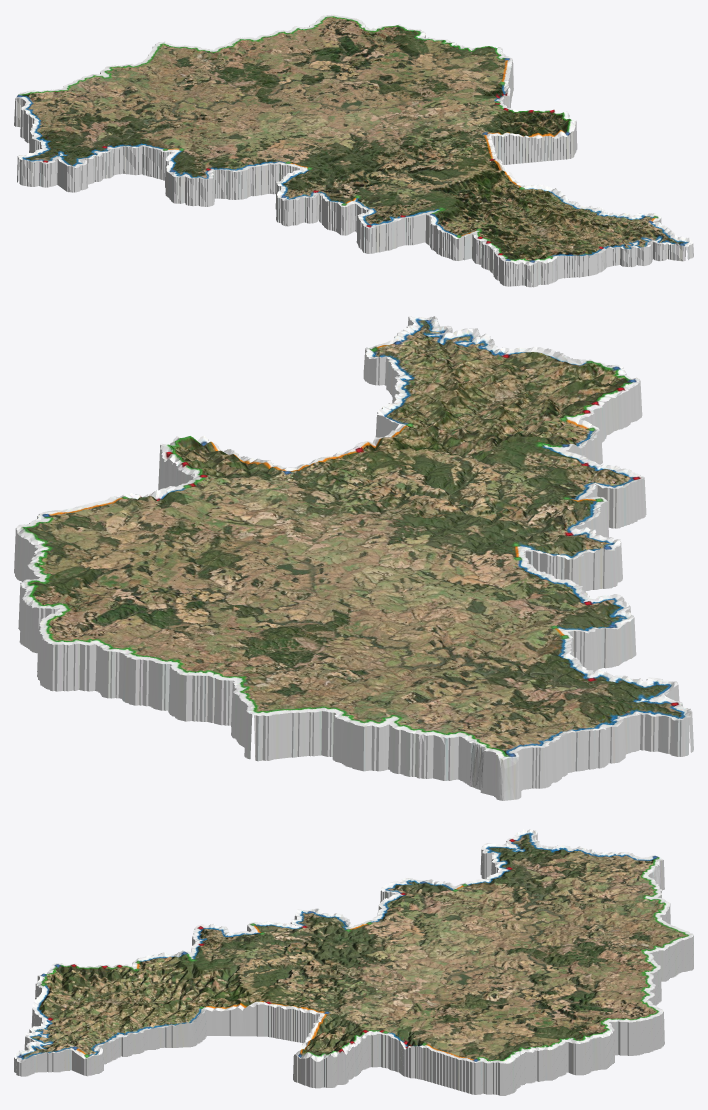
3 views of the same model, one above another, from view 1: azimuth 30°, elevation 25°; view 2: azimuth 150°, elevation 25°; view 3: azimuth 270°, elevation 25° (orthographic). The views are drawn at different scales.
Size of the model in its own units: 1 by 0.0657 by 1.2.
1 material, 1 textured.
